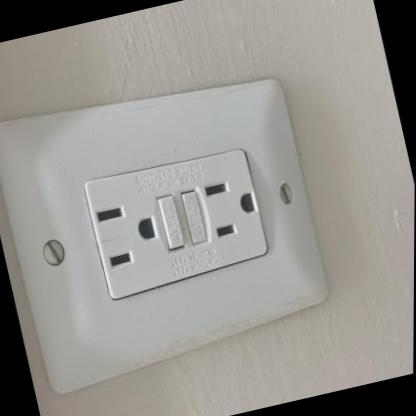OUTLET: (0, 59, 335, 379)
